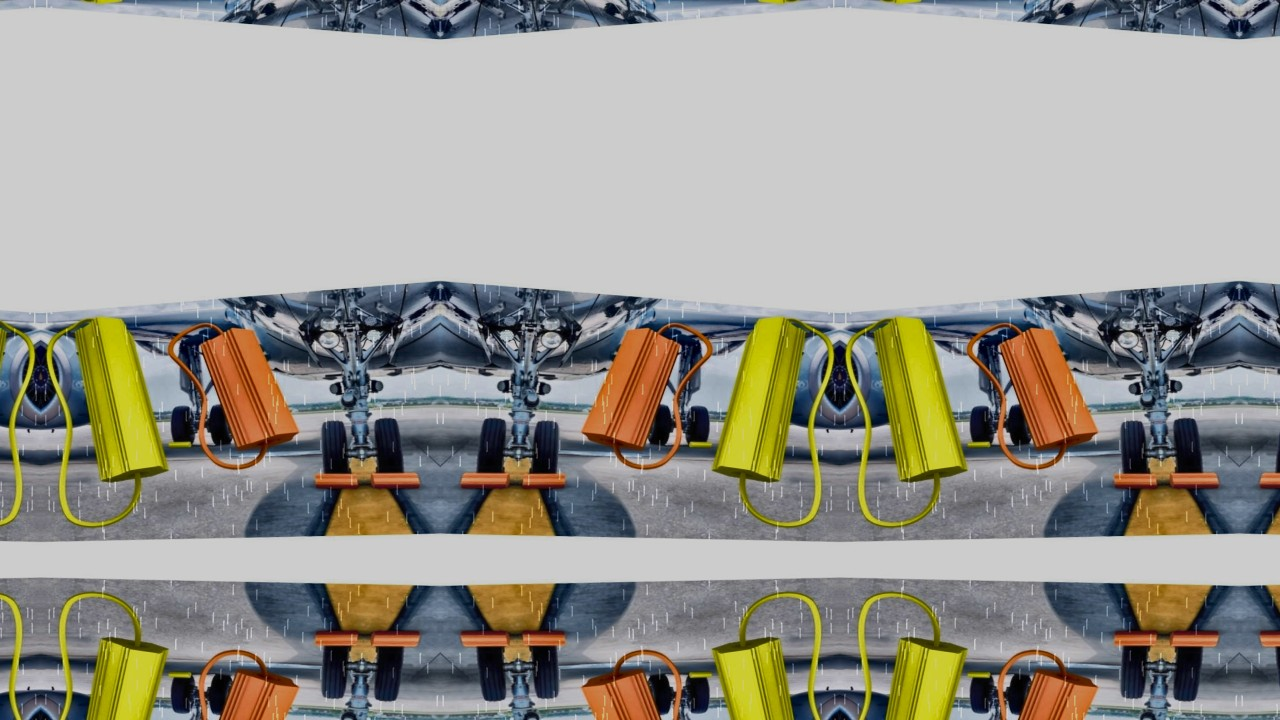chock: (71, 313, 169, 488), (711, 313, 809, 488), (871, 313, 969, 488), (197, 324, 304, 454), (576, 324, 683, 454), (997, 324, 1104, 454), (71, 632, 169, 720), (711, 632, 809, 720), (871, 632, 969, 720), (197, 666, 304, 720), (576, 666, 683, 720), (997, 666, 1104, 720), (367, 469, 422, 491), (458, 469, 513, 491), (1167, 469, 1222, 491), (367, 629, 422, 651), (458, 629, 513, 651), (1167, 629, 1222, 651), (312, 472, 360, 490), (520, 472, 568, 490), (1112, 472, 1160, 490), (312, 630, 360, 648), (520, 630, 568, 648), (1112, 630, 1160, 648), (1258, 469, 1280, 491), (1258, 629, 1280, 651), (166, 440, 192, 449), (688, 440, 714, 449), (966, 440, 992, 449), (166, 671, 192, 680), (688, 671, 714, 680), (966, 671, 992, 680)
wheel: (372, 417, 404, 474), (476, 417, 508, 474), (1172, 417, 1204, 474), (372, 646, 404, 703), (476, 646, 508, 703), (1172, 646, 1204, 703), (319, 420, 350, 475), (530, 420, 561, 475), (1119, 420, 1150, 475), (319, 645, 350, 700), (530, 645, 561, 700), (1119, 645, 1150, 700), (170, 404, 197, 445), (683, 404, 710, 445), (970, 404, 997, 445), (170, 675, 197, 716), (683, 675, 710, 716), (970, 675, 997, 716), (207, 402, 233, 444), (647, 402, 673, 444), (1007, 402, 1033, 444), (207, 676, 233, 718), (647, 676, 673, 718), (1007, 676, 1033, 718), (1276, 417, 1280, 474), (1276, 646, 1280, 703)
